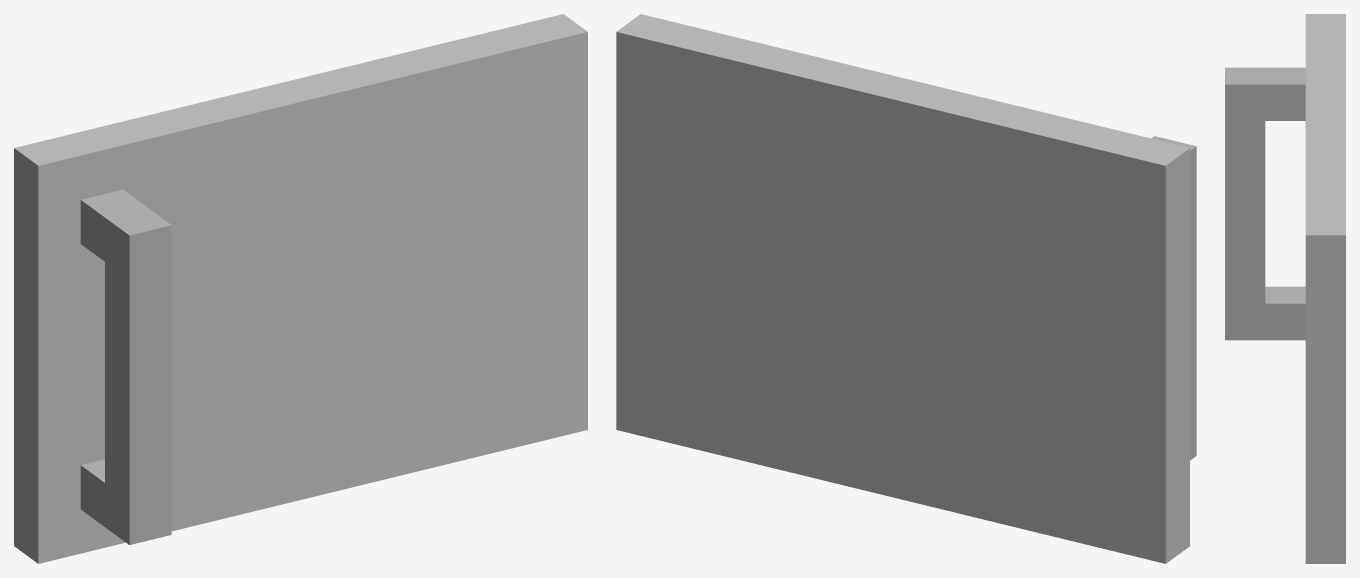
The model's file is Decor-42.obj.
3 views of the same model, side by side, from view 1: azimuth 30°, elevation 25°; view 2: azimuth 150°, elevation 25°; view 3: azimuth 270°, elevation 25° (orthographic). The views are drawn at different scales.
Size of the model in its own units: 1.3 by 0.9 by 0.3.
Materials: 1 (1 with a texture image).
